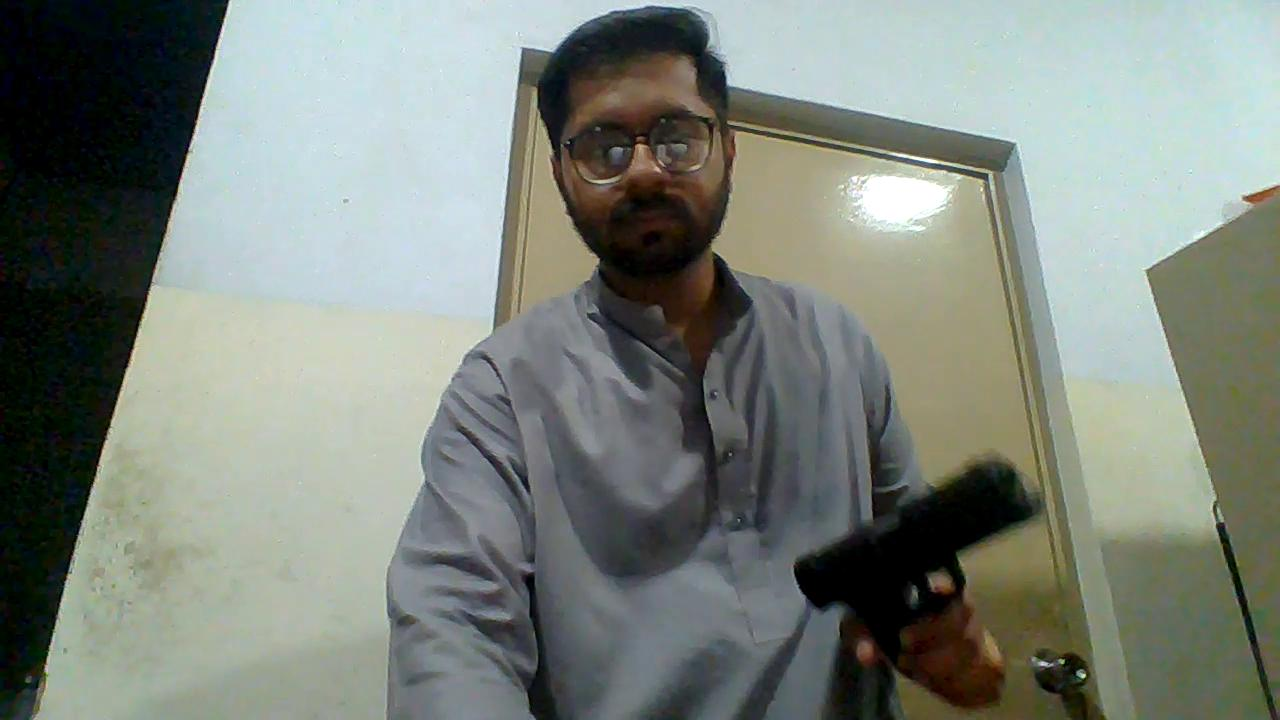criminal: (379, 6, 1049, 720)
weapon: (795, 454, 1047, 619)
